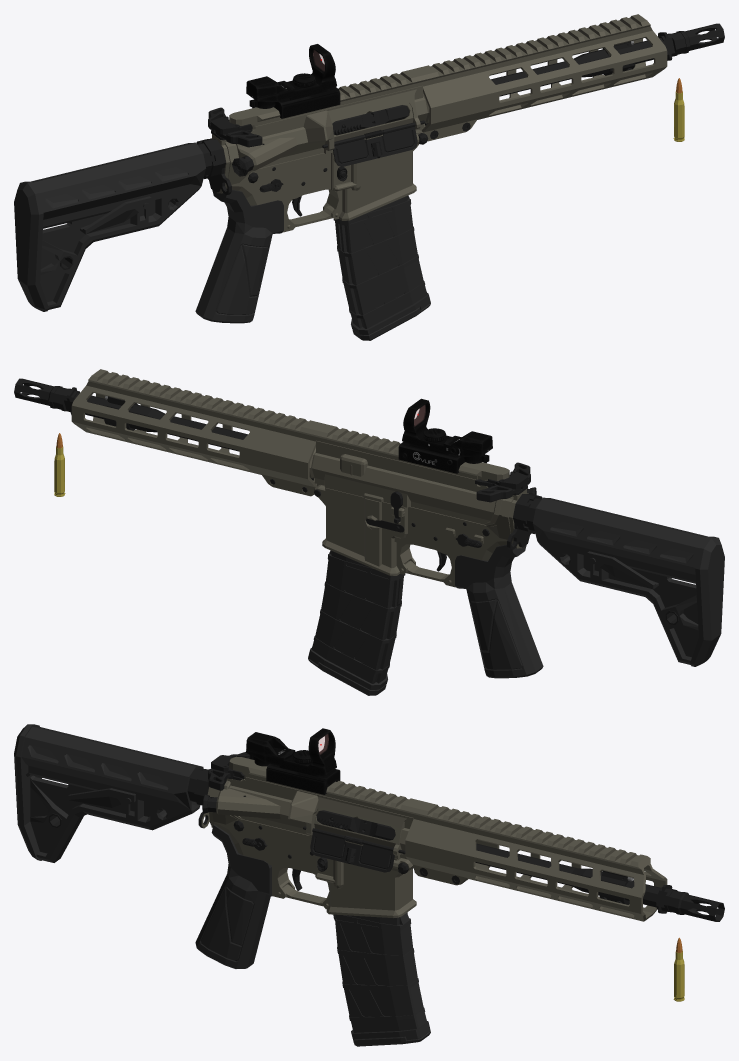
File: m416rifle.glb
3 views of the same model, one above another, from view 1: azimuth 30°, elevation 25°; view 2: azimuth 150°, elevation 25°; view 3: azimuth 330°, elevation 25° (orthographic).
Parts seen in each view (by area): view 1: uar15 stock, uar15 handguard, uar15 lower, Magazine, uar15 upper, uar15 grip, scope_low_TT_checker_4096x4096_UV_GRID_0, uar15 dust cover, uar15 10.5in barrel, uar15 flash hider, charginghandle, uar15 bolt; view 2: uar15 stock, uar15 handguard, uar15 lower, uar15 upper, Magazine, uar15 grip, scope_low_TT_checker_4096x4096_UV_GRID_0, uar15 10.5in barrel, uar15 flash hider, charginghandle; view 3: uar15 stock, uar15 handguard, Magazine, uar15 lower, uar15 upper, uar15 grip, scope_low_TT_checker_4096x4096_UV_GRID_0, uar15 dust cover, uar15 10.5in barrel, uar15 flash hider, uar15 bolt, charginghandle (+1 smaller).
Boxes of the visible parts, bbox=[...] form: uar15 stock: bbox=[14, 142, 205, 311]; uar15 handguard: bbox=[414, 14, 667, 141]; uar15 lower: bbox=[196, 130, 428, 232]; Magazine: bbox=[333, 195, 430, 340]; uar15 upper: bbox=[229, 69, 429, 176]; uar15 grip: bbox=[195, 188, 283, 323]; scope_low_TT_checker_4096x4096_UV_GRID_0: bbox=[246, 44, 340, 118]; uar15 dust cover: bbox=[322, 120, 425, 166]; uar15 10.5in barrel: bbox=[491, 38, 665, 96]; uar15 flash hider: bbox=[658, 23, 724, 60]; charginghandle: bbox=[208, 107, 262, 147]; uar15 bolt: bbox=[332, 105, 409, 135]; uar15 stock: bbox=[533, 497, 724, 666]; uar15 handguard: bbox=[71, 369, 324, 496]; uar15 lower: bbox=[313, 485, 542, 587]; uar15 upper: bbox=[309, 424, 536, 525]; Magazine: bbox=[308, 550, 405, 695]; uar15 grip: bbox=[455, 543, 543, 678]; scope_low_TT_checker_4096x4096_UV_GRID_0: bbox=[398, 398, 492, 473]; uar15 10.5in barrel: bbox=[73, 393, 247, 451]; uar15 flash hider: bbox=[14, 378, 79, 414]; charginghandle: bbox=[475, 462, 530, 502]; uar15 stock: bbox=[14, 724, 203, 862]; uar15 handguard: bbox=[405, 801, 667, 921]; Magazine: bbox=[333, 912, 430, 1046]; uar15 lower: bbox=[187, 769, 416, 917]; uar15 upper: bbox=[202, 756, 422, 868]; uar15 grip: bbox=[195, 824, 271, 968]; scope_low_TT_checker_4096x4096_UV_GRID_0: bbox=[246, 728, 340, 794]; uar15 dust cover: bbox=[303, 826, 405, 872]; uar15 10.5in barrel: bbox=[475, 843, 660, 907]; uar15 flash hider: bbox=[656, 885, 724, 921]; uar15 bolt: bbox=[316, 810, 395, 840]; charginghandle: bbox=[208, 752, 249, 790].
Size of the model in its own units: 6.79 by 2.78 by 0.7263.
9 materials, 1 textured.
